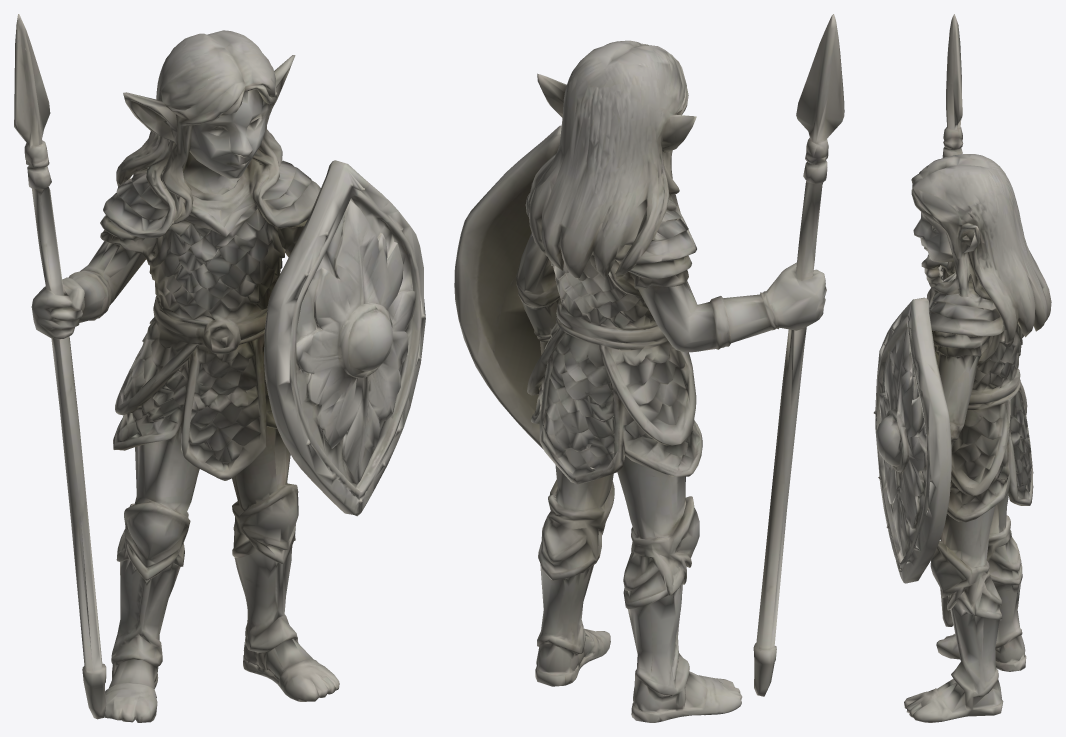
File: w_pawn.glb
3 renders of one model, left to right at view 1: azimuth 30°, elevation 25°; view 2: azimuth 150°, elevation 25°; view 3: azimuth 270°, elevation 25°, orthographic. The views are drawn at different scales.
Parts seen in each view (by area): view 1: node_0; view 2: node_0; view 3: node_0.
Boxes of the visible parts, x1,y1,x2,y2 form: node_0: (14,14,425,722); node_0: (454,14,844,722); node_0: (873,14,1051,722).
Bounding box in the file's own units: 0.6057 × 1.05 × 0.286.
Materials: 1 (1 with a texture image).
